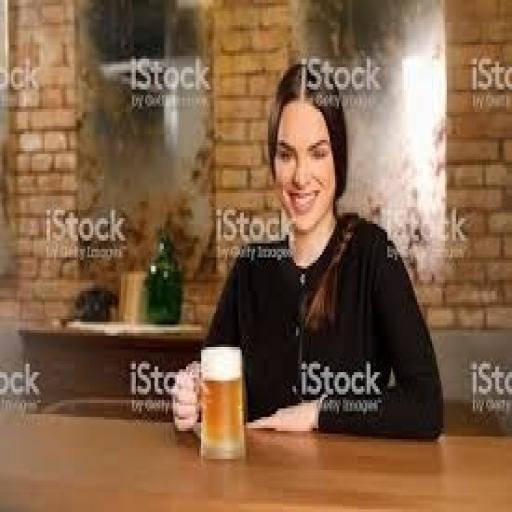drinking: (197, 344, 246, 459)
